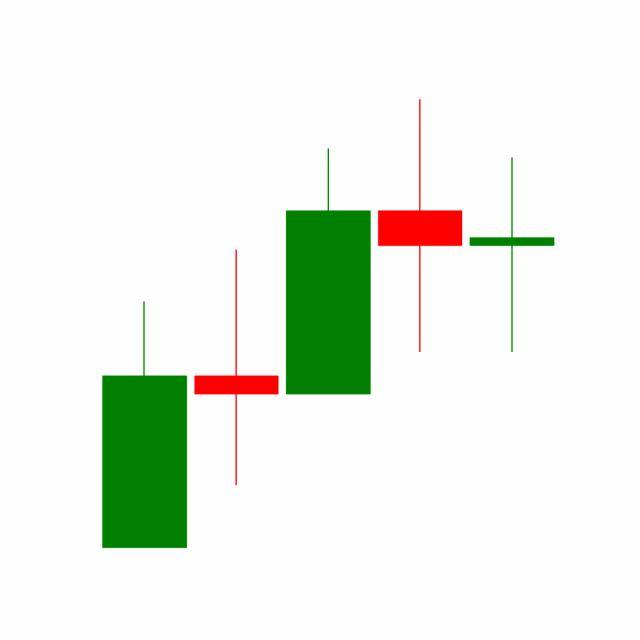Spinning Top: (466, 156, 559, 355)
